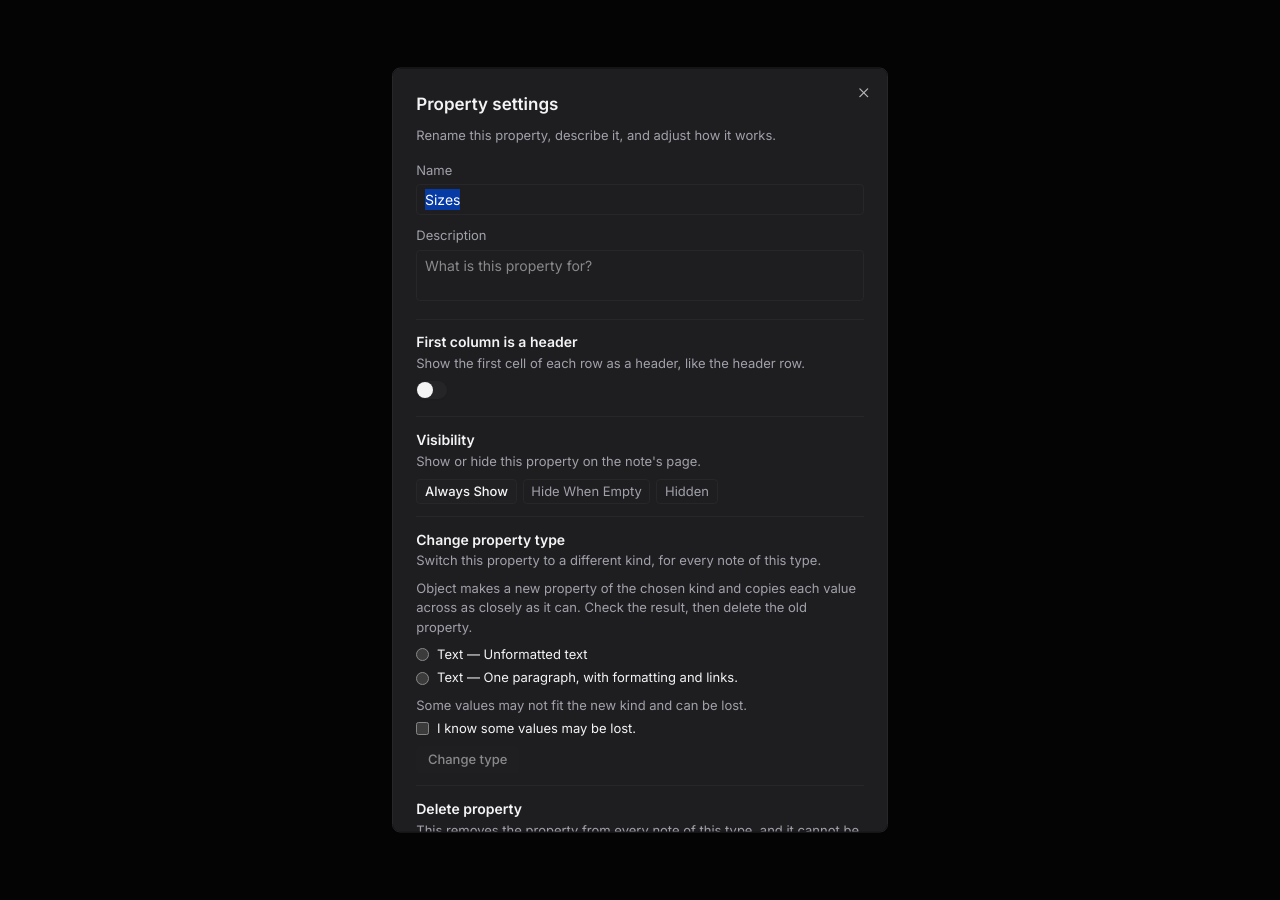
Property settings: "First column is a header" › the switch sets options.headerColumn; off removes it
The width and height of the screenshot is (1280, 900).
Later steps or results of the test are not shown.
Click the switch named "First column is a header".
click(432, 390)  # box [416, 381, 447, 399]
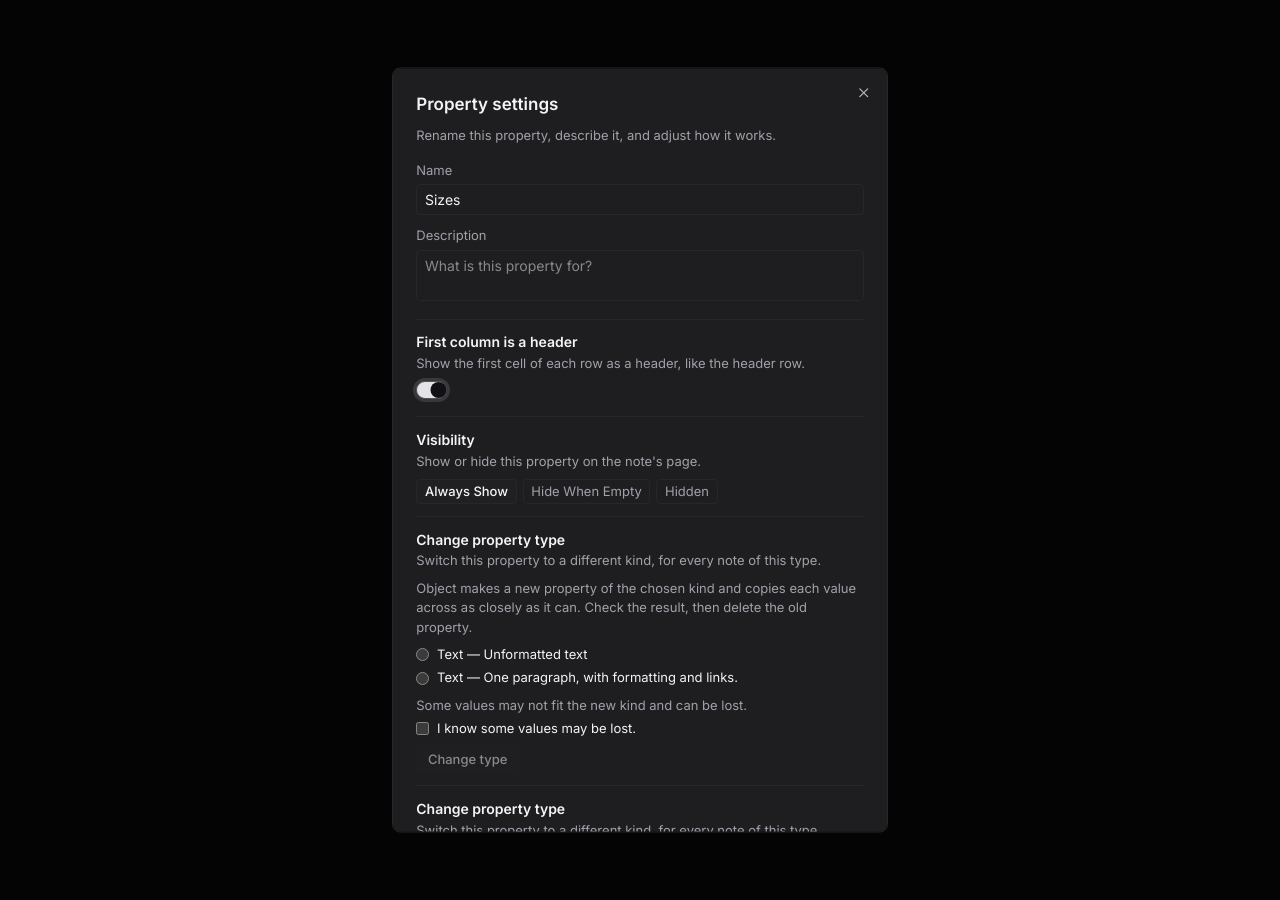
expect the switch named "First column is a header" is checked: met, box [416, 381, 447, 399]
